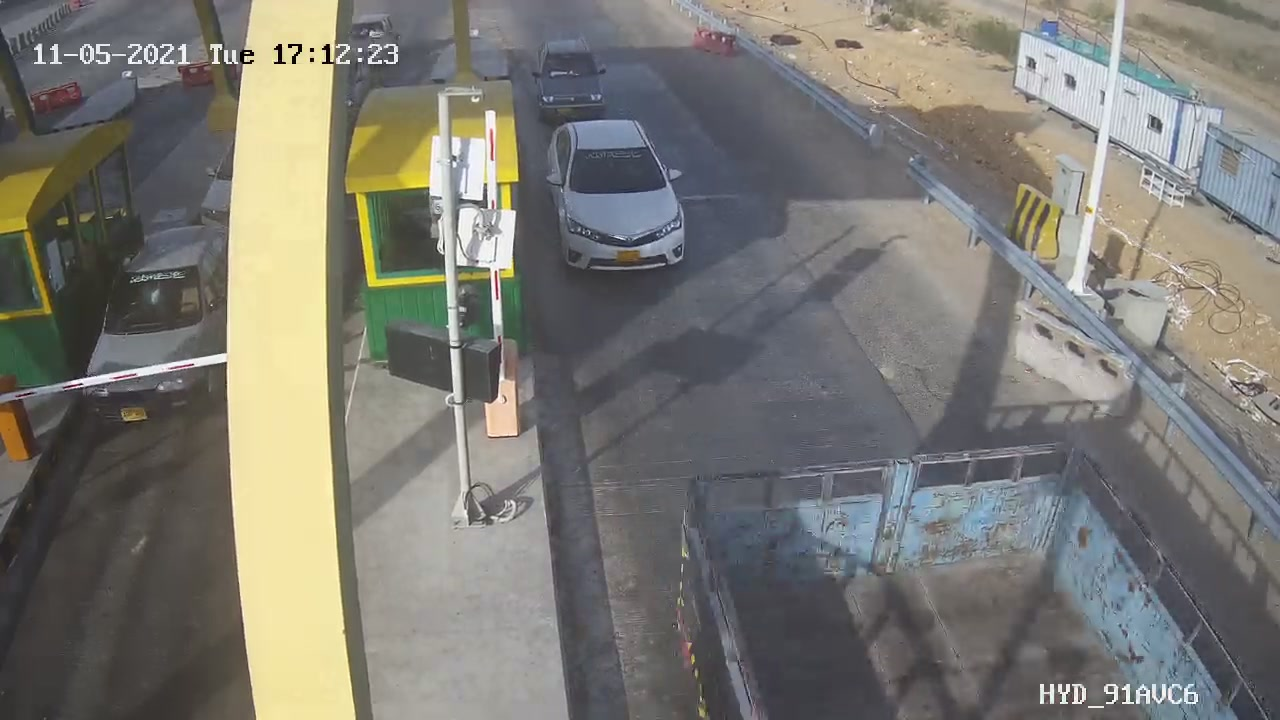F1: (529, 105, 705, 288)
